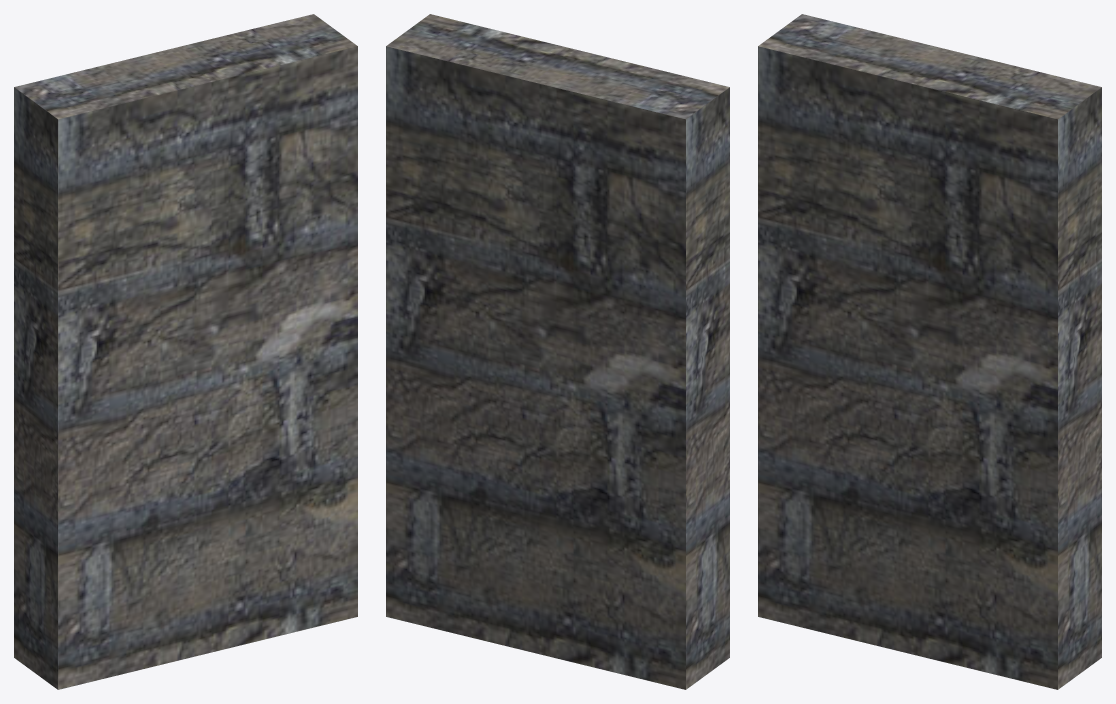
Rendered from door_brick.glb.
3 renders of one model, left to right at view 1: azimuth 30°, elevation 25°; view 2: azimuth 150°, elevation 25°; view 3: azimuth 330°, elevation 25°, orthographic.
Visible parts, largest first — view 1: door; view 2: door; view 3: door.
Part boxes in pixels (bbox=[...]): door: bbox=[14, 14, 357, 689]; door: bbox=[386, 14, 729, 689]; door: bbox=[758, 14, 1101, 689].
Bounding box in the file's own units: 0.55 × 1 × 0.14.
1 material, 1 textured.
